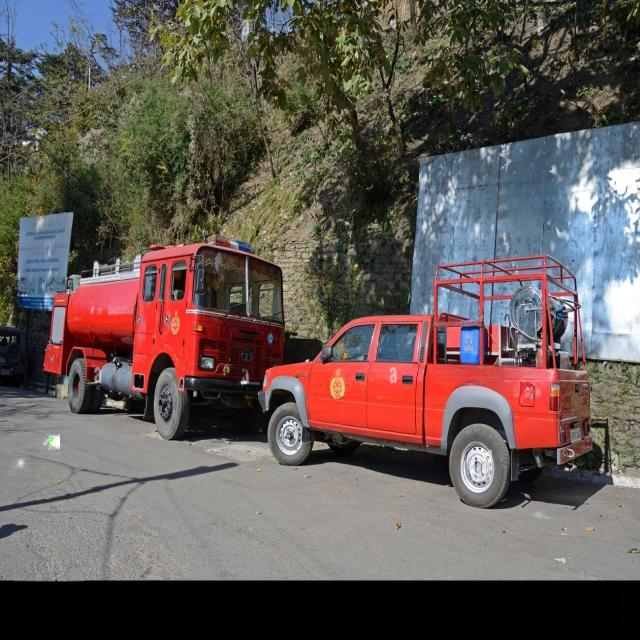emergency: (259, 255, 592, 508), (44, 239, 285, 439)
